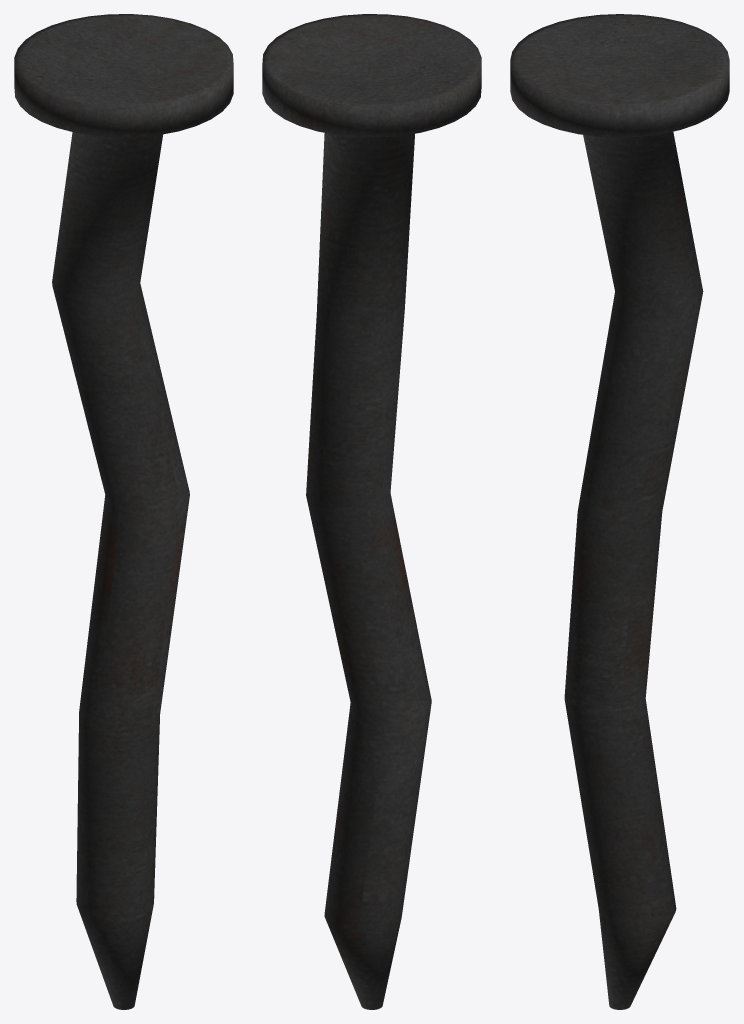
Rendered from Nail_croocked.glb.
The picture shows the model from 3 angles, left to right: view 1: azimuth 30°, elevation 25°; view 2: azimuth 150°, elevation 25°; view 3: azimuth 270°, elevation 25°; orthographic projection.
Parts seen in each view (by area): view 1: Cylinder.001; view 2: Cylinder.001; view 3: Cylinder.001.
Part boxes in pixels (x1,y1,x2,y2): Cylinder.001: (14,14,233,1009); Cylinder.001: (262,14,481,1009); Cylinder.001: (510,14,729,1009).
Bounding box in the file's own units: 0.0262 × 0.1245 × 0.0262.
Materials: 1 (1 with a texture image).
